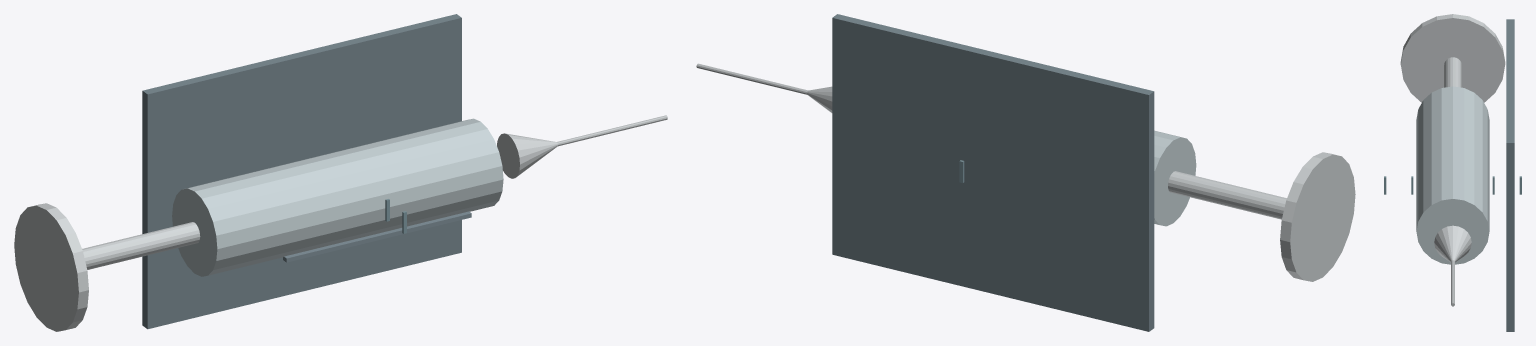
Rendered from syringe-medium.glb.
The picture shows the model from 3 angles, left to right: view 1: azimuth 30°, elevation 25°; view 2: azimuth 150°, elevation 25°; view 3: azimuth 270°, elevation 25°; orthographic projection. The views are drawn at different scales.
Visible parts, largest first — view 1: presentation_base_detail, barrel, plunger_disc, plunger, tip, scale, needle; view 2: presentation_base_detail, plunger_disc, barrel, plunger, needle; view 3: barrel, plunger_disc, presentation_base_detail, tip, plunger, needle.
Part boxes in pixels (<box>): presentation_base_detail: <box>142,14,461,329</box>; barrel: <box>172,118,503,276</box>; plunger_disc: <box>14,203,88,331</box>; plunger: <box>82,222,200,269</box>; tip: <box>497,133,557,178</box>; scale: <box>283,211,471,262</box>; needle: <box>557,115,667,146</box>; presentation_base_detail: <box>832,14,1154,331</box>; plunger_disc: <box>1280,152,1355,281</box>; barrel: <box>1154,130,1196,226</box>; plunger: <box>1168,171,1286,219</box>; needle: <box>696,63,808,94</box>; barrel: <box>1416,86,1489,264</box>; plunger_disc: <box>1400,14,1505,102</box>; presentation_base_detail: <box>1506,19,1514,331</box>; tip: <box>1434,225,1471,262</box>; plunger: <box>1444,57,1461,87</box>; needle: <box>1451,260,1454,306</box>.
Size of the model in its own units: 5.52 by 2 by 1.32.
